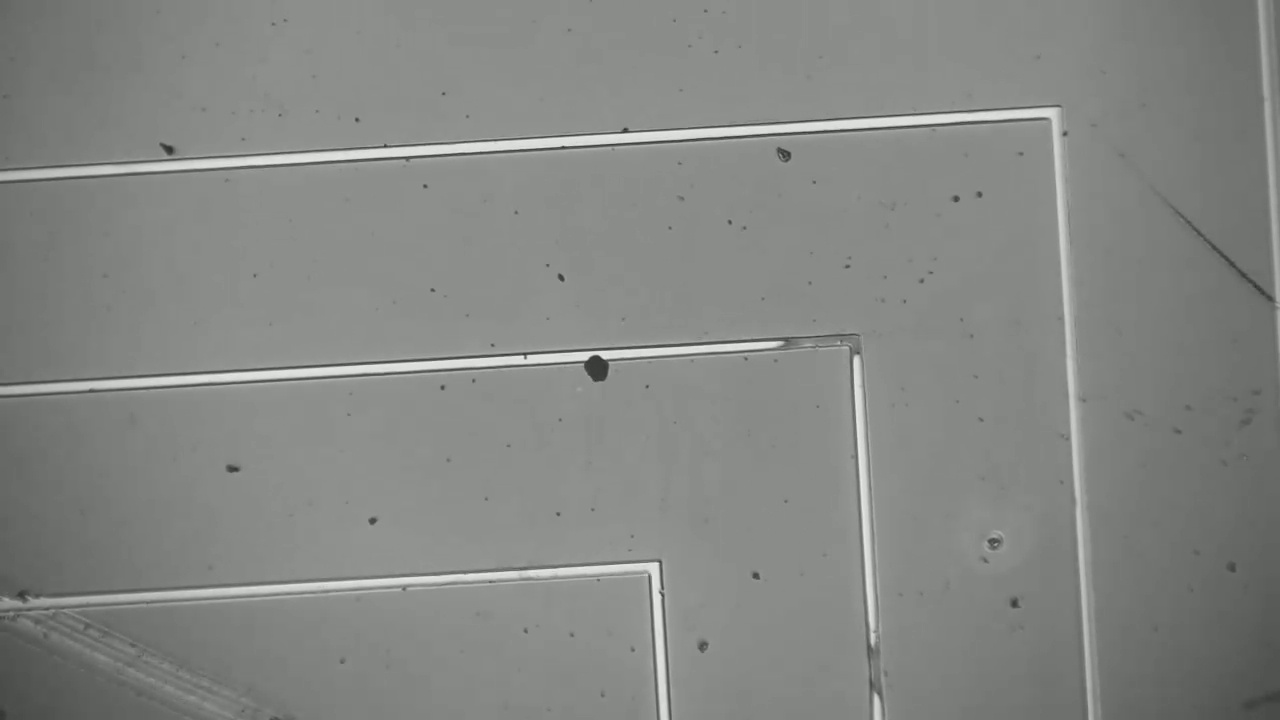gray_line: (856, 626, 894, 707), (770, 329, 870, 354), (838, 316, 874, 381)
scratch: (0, 577, 280, 716), (1135, 170, 1273, 296)
stains_enbedded: (577, 341, 616, 387)
